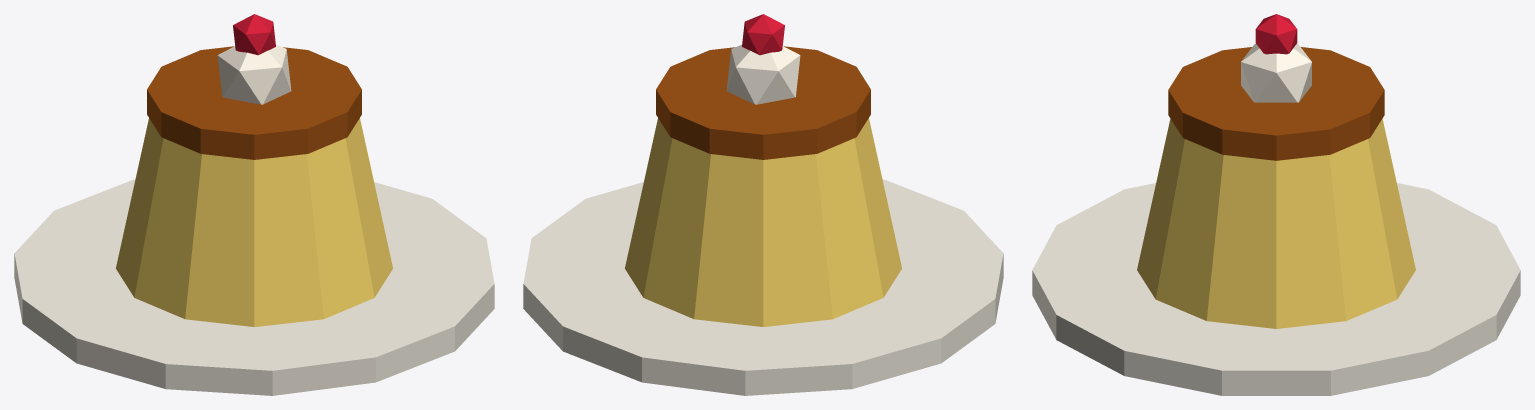
Rendered from purin_pudding.glb.
The picture shows the model from 3 angles, left to right: view 1: azimuth 30°, elevation 25°; view 2: azimuth 150°, elevation 25°; view 3: azimuth 270°, elevation 25°; orthographic projection.
Parts seen in each view (by area): view 1: purin_pudding; view 2: purin_pudding; view 3: purin_pudding.
Boxes of the visible parts, bbox=[...] form: purin_pudding: bbox=[14, 14, 494, 395]; purin_pudding: bbox=[523, 14, 1003, 395]; purin_pudding: bbox=[1032, 14, 1520, 395].
Bounding box in the file's own units: 0.1365 × 0.089 × 0.14.
